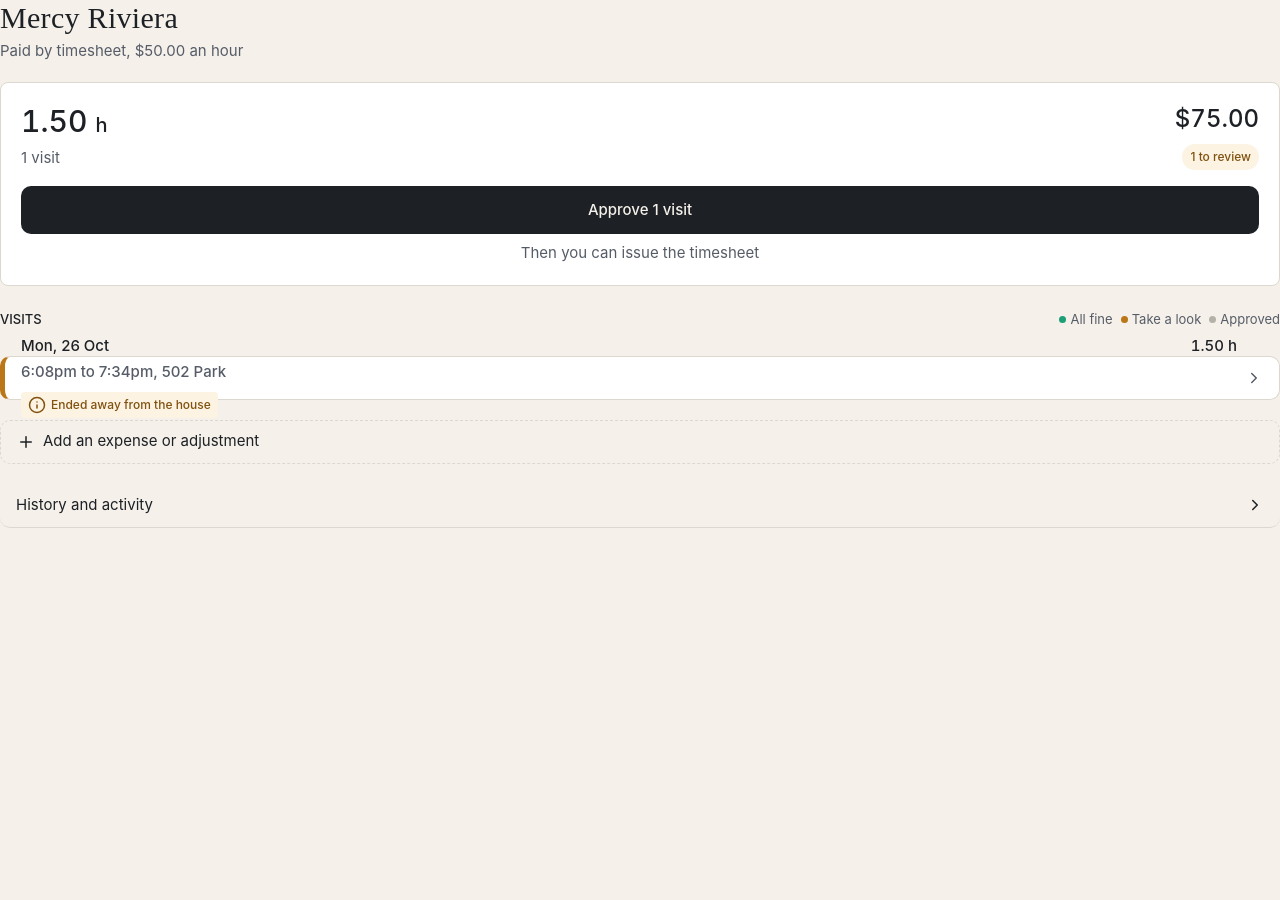
Scenario: pending visit detail delegates edits to the existing required-reason form
Click the button with aria-label "View visit:". click: (49, 372)
box: [0,356,1279,400]
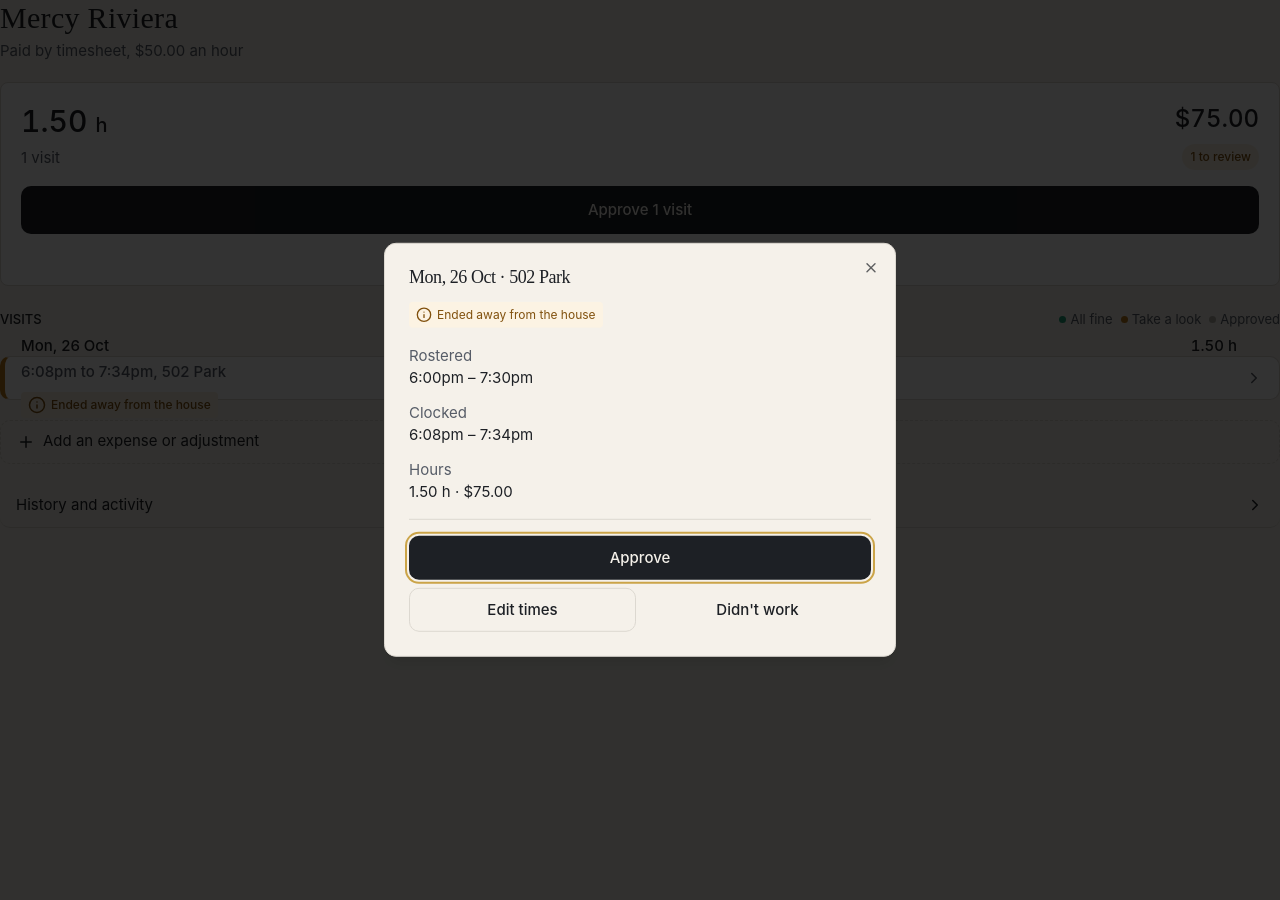
Click the button "Edit times". click: (522, 610)
box: [409,588,636,632]
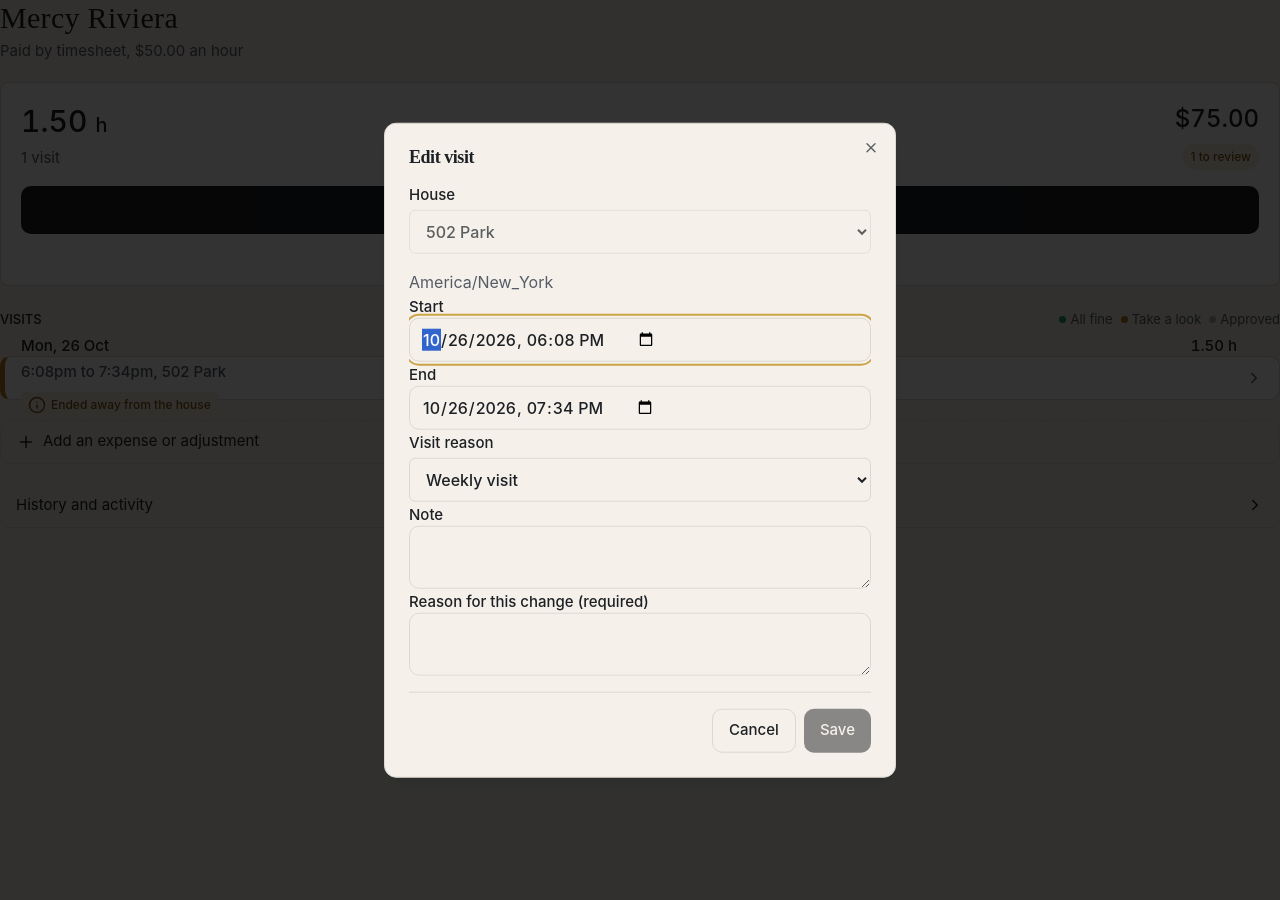
Result: the text box labelled "Reason for this change (required)" is shown at [409,612,871,675]
Result: the button "Save" is disabled at [804,708,871,752]
